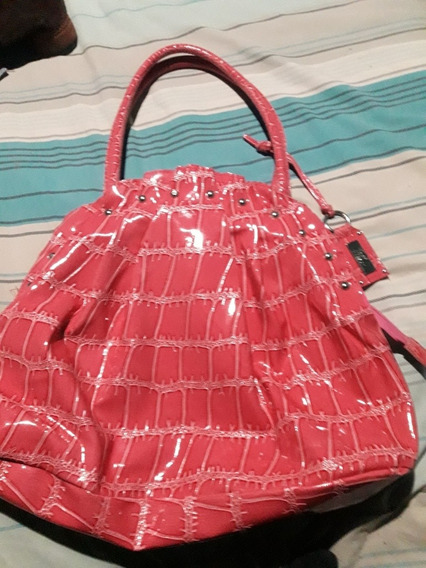cartera: (2, 42, 426, 554)
